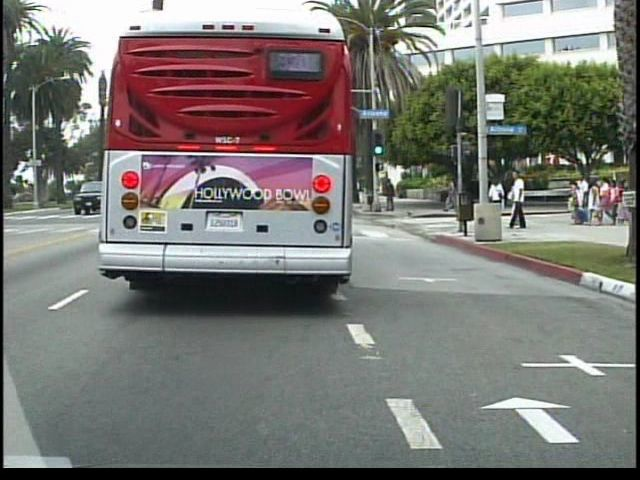person: (508, 166, 532, 232), (489, 174, 510, 219), (382, 176, 402, 216), (444, 175, 461, 213)
